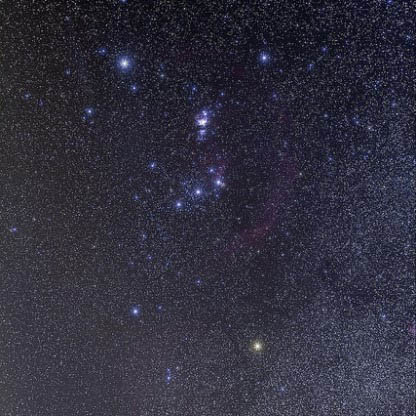Orion: (165, 190, 189, 218), (208, 169, 232, 196), (109, 50, 136, 73), (248, 332, 271, 358), (252, 45, 275, 70), (121, 301, 143, 321), (190, 180, 205, 206)
